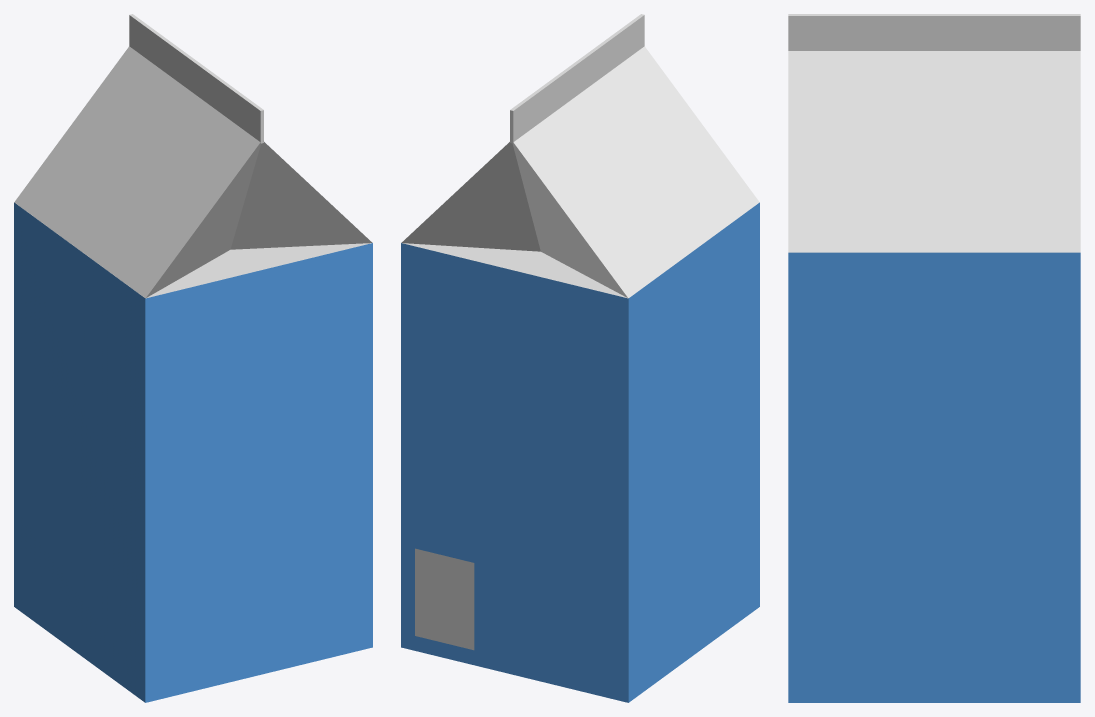
The model's file is MilkCartonV1.fbx.
3 renders of one model, left to right at view 1: azimuth 30°, elevation 25°; view 2: azimuth 150°, elevation 25°; view 3: azimuth 270°, elevation 25°, orthographic. The views are drawn at different scales.
Visible parts, largest first — view 1: Cube; view 2: Cube; view 3: Cube.
Part boxes in pixels (<box>): Cube: <box>14,14,372,702</box>; Cube: <box>401,14,759,702</box>; Cube: <box>788,14,1080,702</box>.
Bounding box in the file's own units: 200 × 200 × 474.
